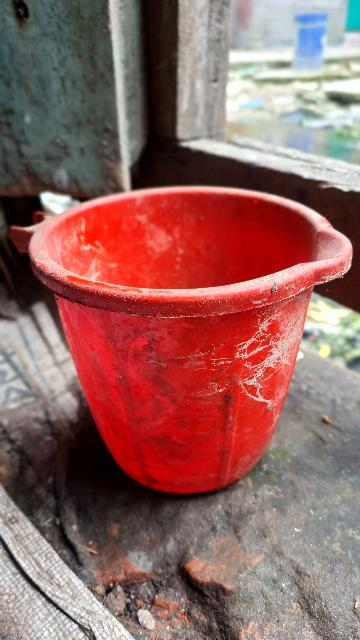hardplastic: (36, 184, 360, 493)
